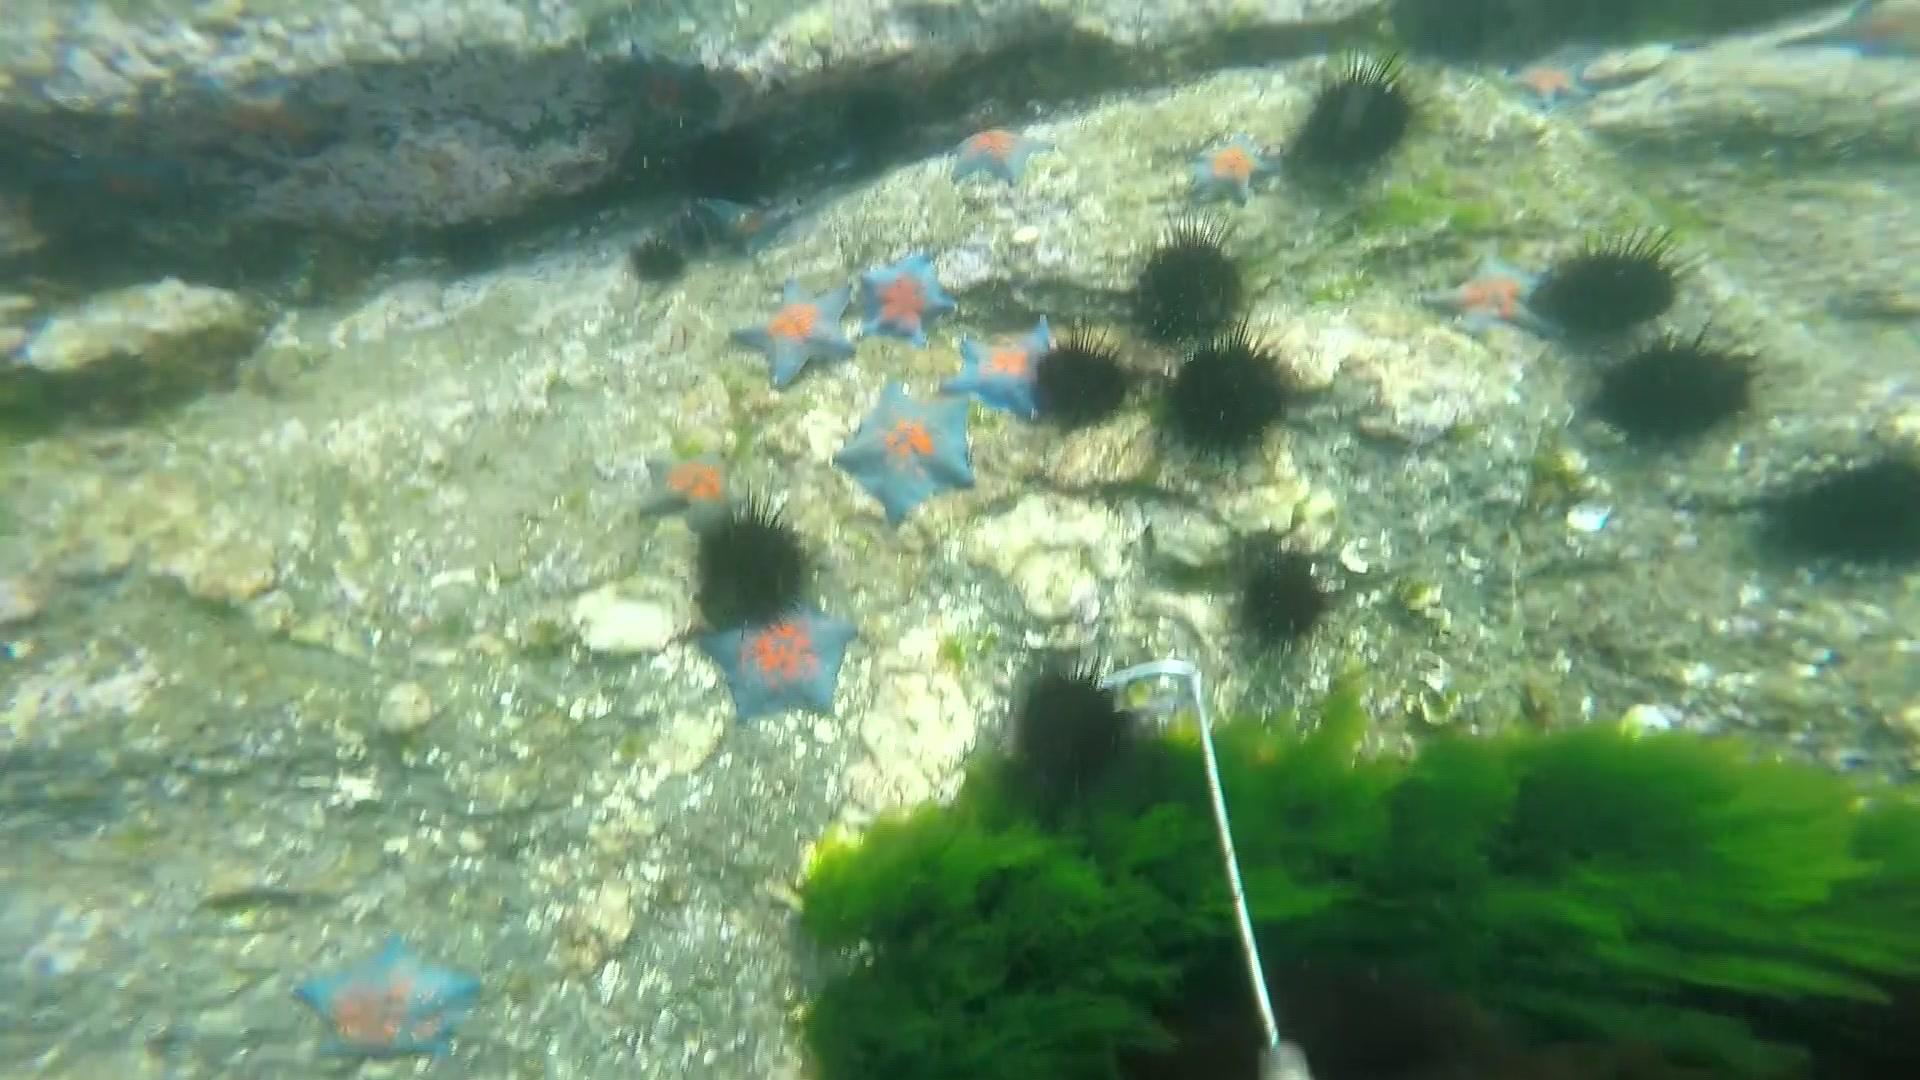echinus: (1590, 315, 1772, 454), (1768, 427, 1920, 593), (1156, 305, 1295, 464), (1126, 200, 1255, 355), (1549, 220, 1712, 342), (1007, 653, 1139, 799), (702, 480, 819, 638), (1298, 46, 1428, 179), (1236, 539, 1345, 665), (1027, 313, 1135, 427), (680, 127, 778, 211), (837, 80, 916, 166), (436, 215, 508, 277), (626, 232, 695, 287)
starfish: (286, 932, 491, 1069), (829, 371, 981, 535), (694, 589, 866, 727), (930, 313, 1080, 431), (723, 272, 860, 396), (1415, 247, 1569, 345), (182, 67, 352, 157), (632, 439, 753, 539), (852, 247, 967, 349), (599, 37, 712, 117), (942, 128, 1055, 193), (1187, 124, 1278, 204), (1495, 55, 1604, 116), (699, 191, 795, 257)
